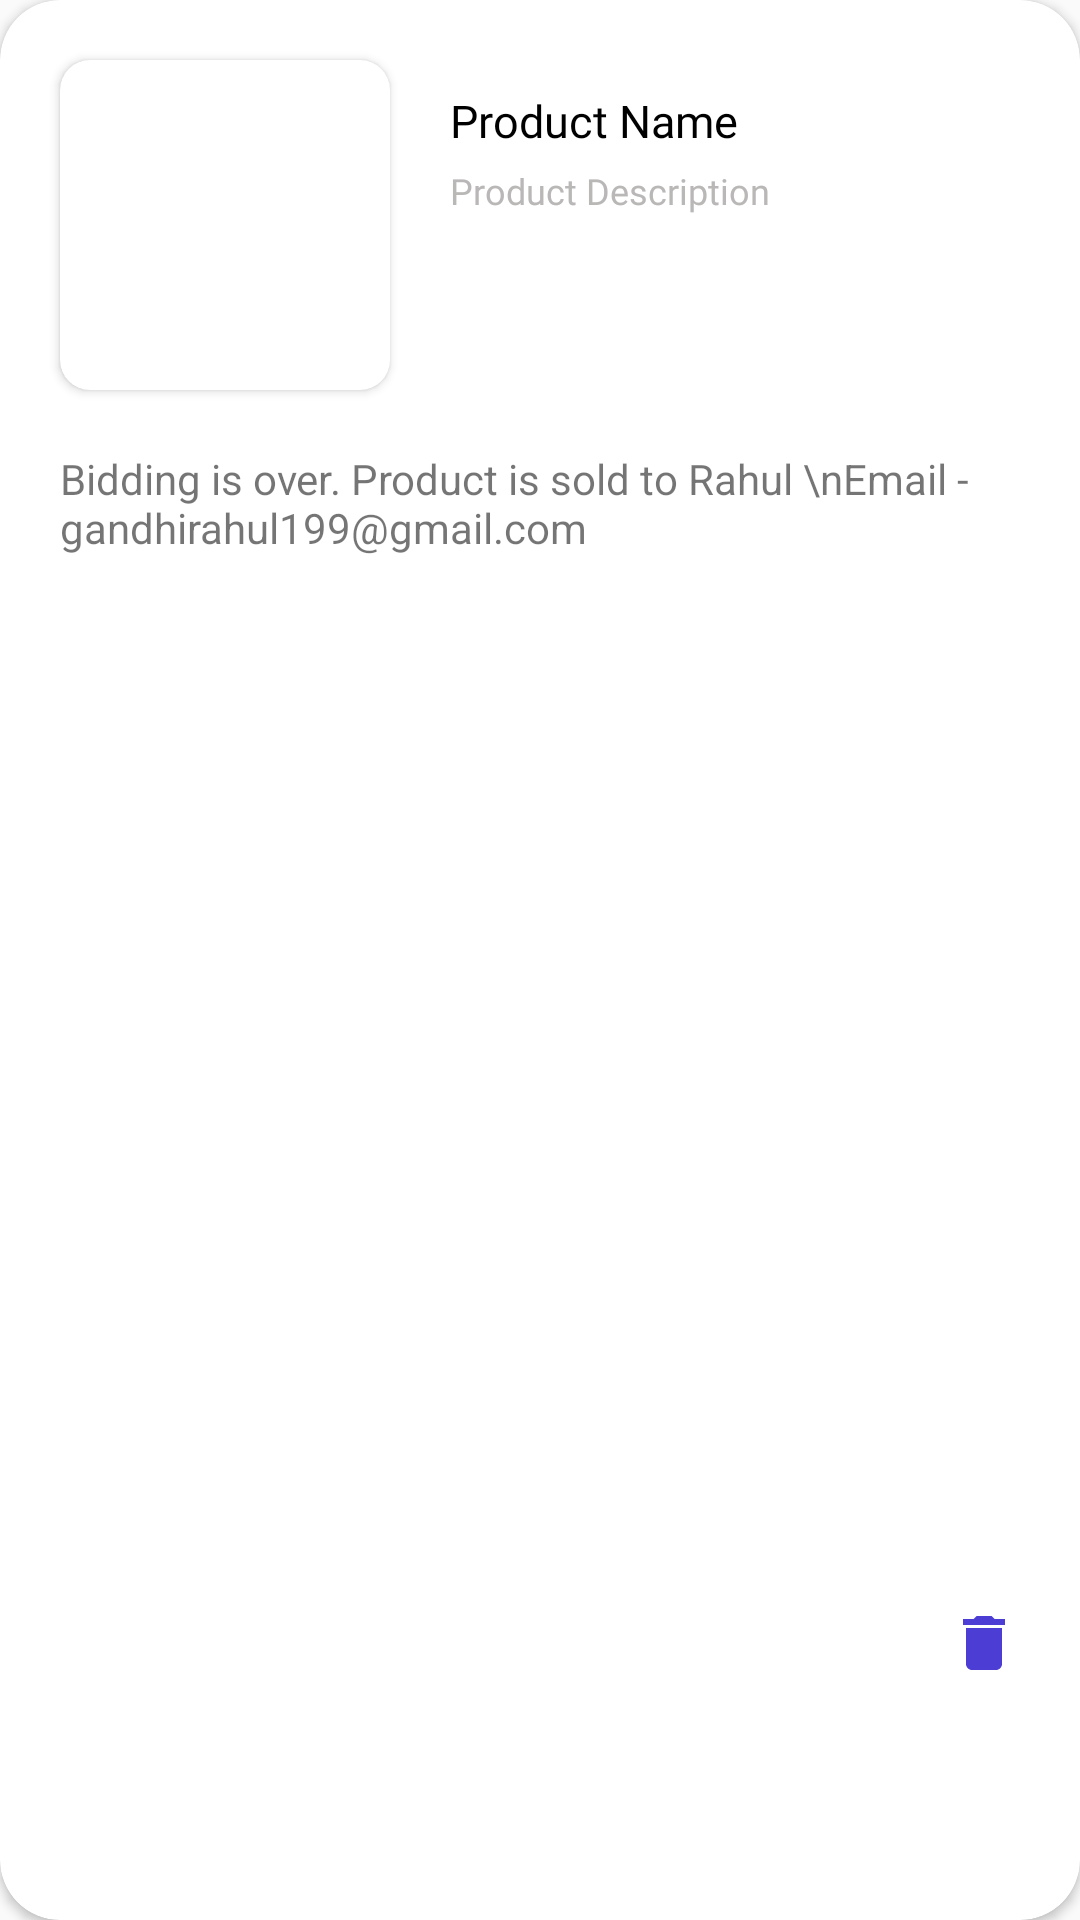

Locate icon controls on the screen. Image size 1080 × 1920, boxes as (x1, y1, x2, y2).
delete: (963, 1616, 1005, 1670)
